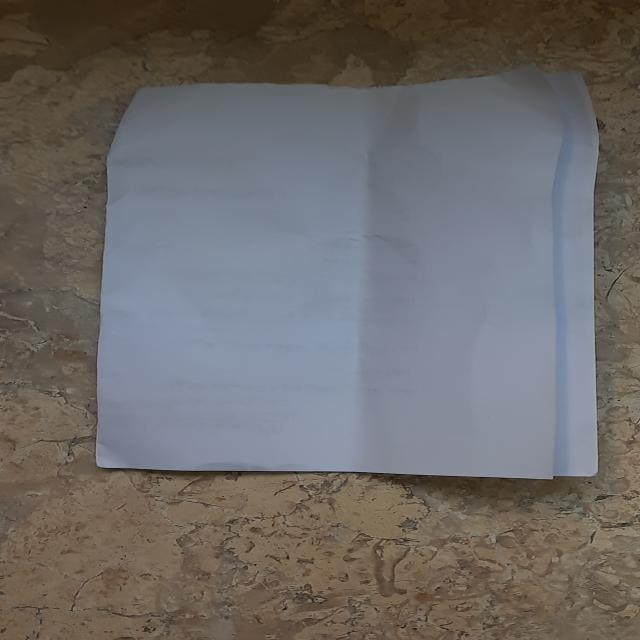paper: (72, 52, 640, 508)
